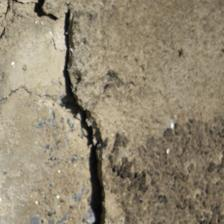Crack: (31, 5, 83, 219)
